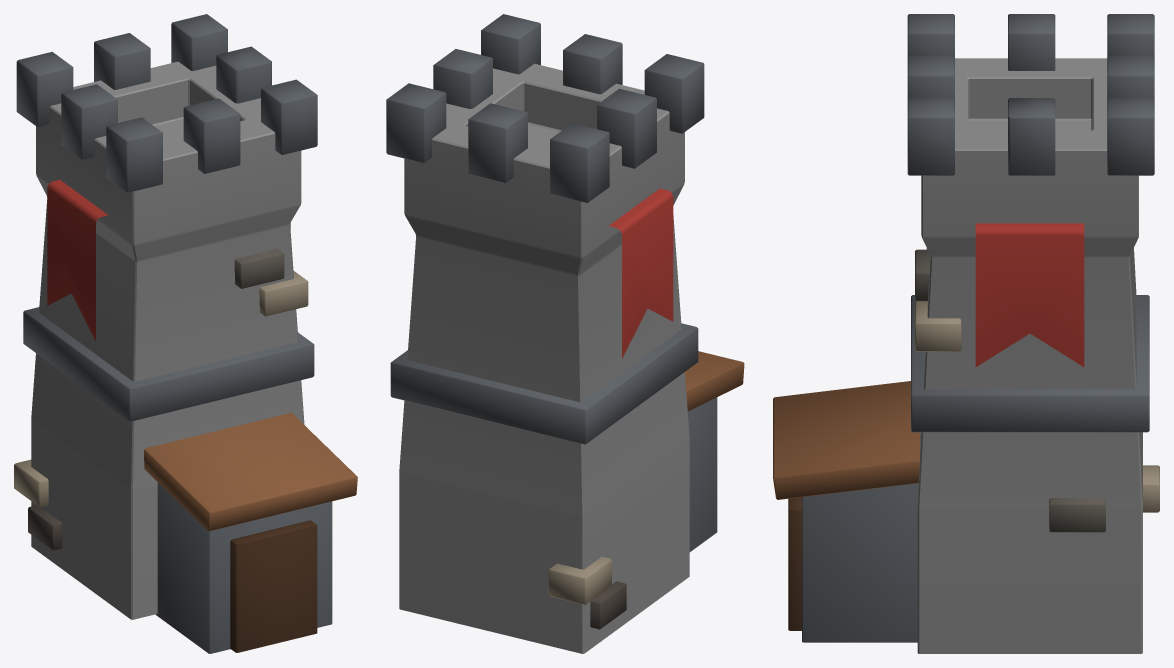
File: Tower.fbx
3 views of the same model, side by side, from view 1: azimuth 30°, elevation 25°; view 2: azimuth 150°, elevation 25°; view 3: azimuth 270°, elevation 25° (orthographic). The views are drawn at different scales.
Parts seen in each view (by area): view 1: Cube.1131, Cube.1142, Cube.1136, Cube.1135, Cube.1132, Cube.1143, Cube.1133, Cube.1144, Cube.1134, Cube.1138, Cube.1137, Cube.1140 (+1 smaller); view 2: Cube.1131, Cube.1135, Cube.1133, Cube.1132, Cube.1144, Cube.1134, Cube.1136, Cube.1142, Cube.1140, Cube.1139; view 3: Cube.1131, Cube.1136, Cube.1142, Cube.1144, Cube.1135, Cube.1133, Cube.1132, Cube.1134, Cube.1141, Cube.1143, Cube.1137, Cube.1140 (+1 smaller).
Part boxes in pixels (left/top/right/bottom): Cube.1131: left=31, top=61, right=304, bottom=619; Cube.1142: left=144, top=412, right=357, bottom=531; Cube.1136: left=155, top=482, right=332, bottom=653; Cube.1135: left=23, top=307, right=314, bottom=421; Cube.1132: left=106, top=79, right=317, bottom=192; Cube.1143: left=230, top=520, right=317, bottom=652; Cube.1133: left=16, top=14, right=227, bottom=127; Cube.1144: left=47, top=180, right=290, bottom=340; Cube.1134: left=61, top=46, right=271, bottom=159; Cube.1138: left=234, top=248, right=284, bottom=288; Cube.1137: left=259, top=270, right=308, bottom=316; Cube.1140: left=14, top=459, right=48, bottom=506; Cube.1131: left=399, top=63, right=689, bottom=653; Cube.1135: left=390, top=323, right=698, bottom=444; Cube.1133: left=386, top=83, right=609, bottom=202; Cube.1132: left=481, top=14, right=704, bottom=133; Cube.1144: left=609, top=188, right=673, bottom=358; Cube.1134: left=433, top=49, right=656, bottom=168; Cube.1136: left=687, top=397, right=717, bottom=551; Cube.1142: left=685, top=351, right=744, bottom=411; Cube.1140: left=548, top=556, right=611, bottom=604; Cube.1139: left=590, top=581, right=626, bottom=629; Cube.1131: left=917, top=58, right=1142, bottom=653; Cube.1136: left=802, top=483, right=918, bottom=642; Cube.1142: left=773, top=381, right=919, bottom=499; Cube.1144: left=975, top=223, right=1084, bottom=366; Cube.1135: left=911, top=295, right=1149, bottom=432; Cube.1133: left=1107, top=14, right=1154, bottom=175; Cube.1132: left=907, top=14, right=954, bottom=175; Cube.1134: left=1008, top=14, right=1055, bottom=175; Cube.1141: left=1049, top=498, right=1105, bottom=532; Cube.1143: left=788, top=497, right=801, bottom=630; Cube.1137: left=915, top=301, right=961, bottom=351; Cube.1140: left=1143, top=465, right=1159, bottom=512.
Size of the model in its own units: 63.43 by 151 by 97.68.
